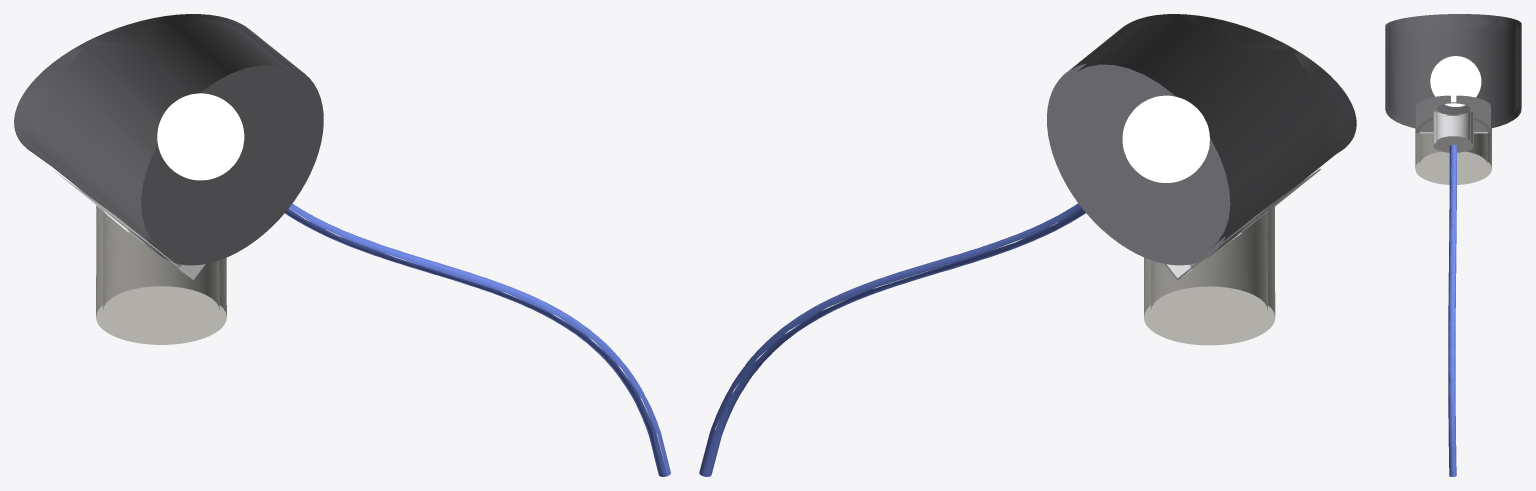
File: lampe-optimisee.glb
3 renders of one model, left to right at view 1: azimuth 30°, elevation 25°; view 2: azimuth 150°, elevation 25°; view 3: azimuth 270°, elevation 25°, orthographic. The views are drawn at different scales.
Visible parts, largest first — view 1: Shade, Base, Cable, Bulb; view 2: Shade, Base, Cable, Bulb, Connector; view 3: Shade, Base, Cable, Bulb, Socket, Connector.
Part boxes in pixels (<box>): Shade: <box>14,14,323,265</box>; Base: <box>96,205,226,344</box>; Cable: <box>285,203,670,476</box>; Bulb: <box>157,93,244,180</box>; Shade: <box>1047,14,1356,265</box>; Base: <box>1144,205,1275,345</box>; Cable: <box>699,203,1085,476</box>; Bulb: <box>1122,95,1209,182</box>; Connector: <box>1165,169,1320,279</box>; Shade: <box>1385,14,1521,128</box>; Base: <box>1415,114,1491,184</box>; Cable: <box>1448,144,1457,476</box>; Bulb: <box>1430,56,1481,106</box>; Socket: <box>1433,102,1473,152</box>; Connector: <box>1416,95,1490,133</box>.
Size of the model in its own units: 0.509 by 0.4163 by 0.16.
